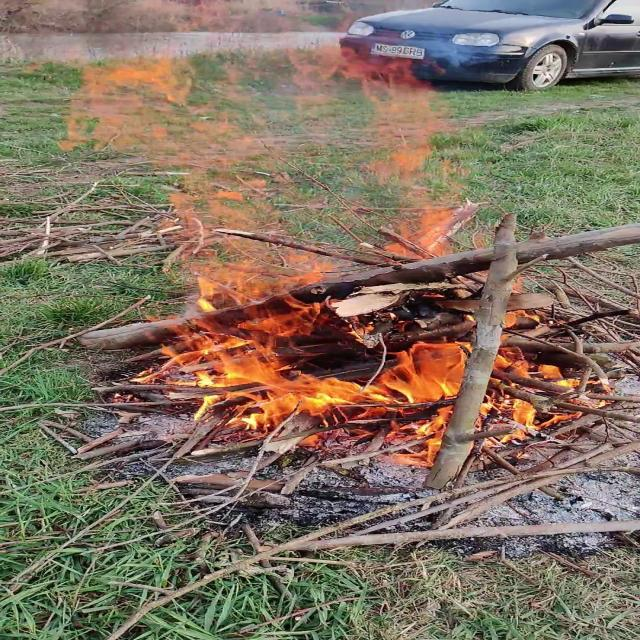Fire: (29, 30, 636, 472)
